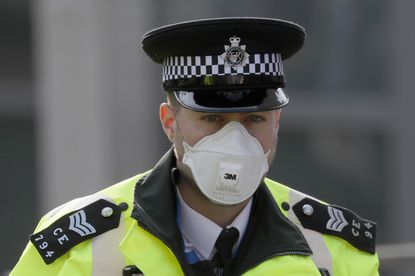with_mask: (164, 83, 293, 202)
